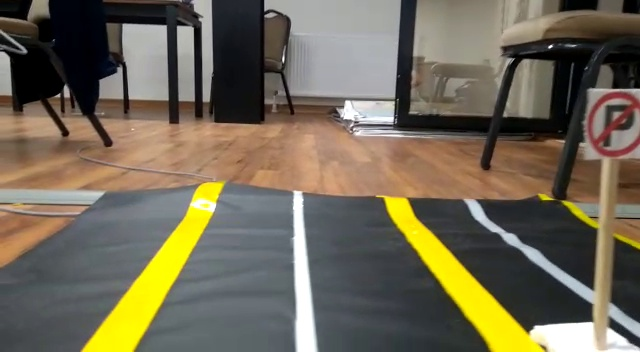park_yapilmaz: (583, 91, 640, 157)
